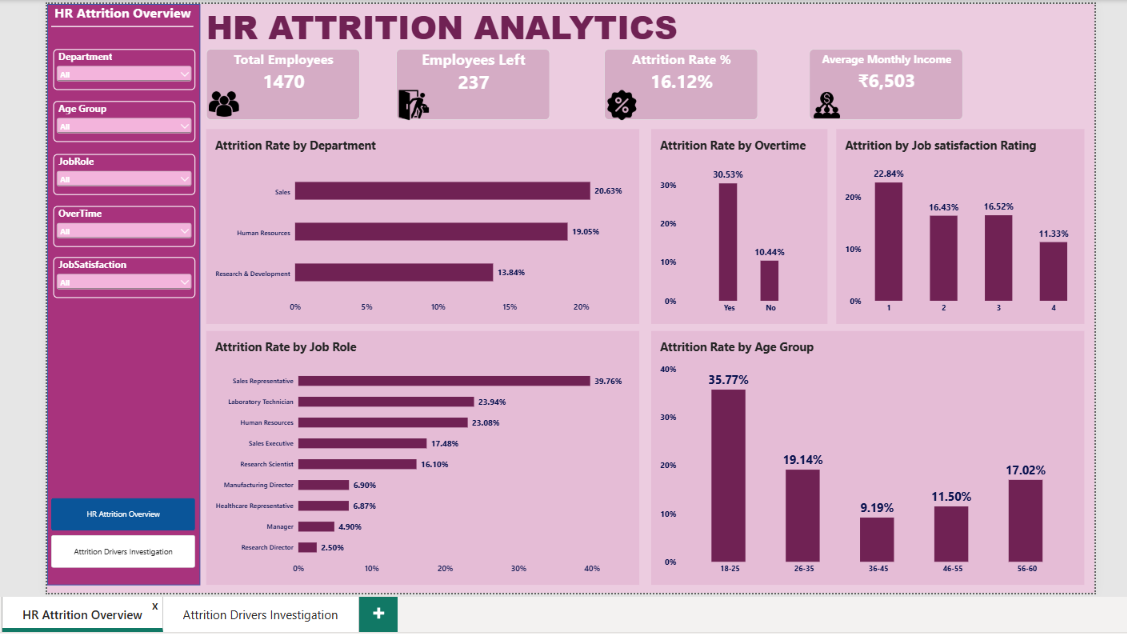

The dashboard page shown, as its layout file describes it:
{"tool":"powerbi","page":{"name":"HR Attrition Overview","canvas":[1920,1080],"ordinal":0},"visuals":[{"type":"shape","box":[0,0,280.6,1066],"z":0},{"type":"textbox","box":[291.6,0,871.3,102.7],"z":1000},{"type":"textbox","box":[0,0,280.6,51.4],"z":2000},{"type":"shape","box":[7.3,14.7,260.5,53.2],"z":3000},{"type":"cardVisual","fields":{"Data":["HR_Attrition_Cleaned.Total Employees"]},"box":[291.6,82.5,282.5,130.2],"z":4000},{"type":"cardVisual","fields":{"Data":["HR_Attrition_Cleaned.Employees Left"]},"box":[640.2,82.5,282.5,130.2],"z":5000},{"type":"cardVisual","fields":{"Data":["HR_Attrition_Cleaned.Attrition Rate %"]},"box":[1021.7,82.5,282.5,130.2],"z":6000},{"type":"cardVisual","fields":{"Data":["HR_Attrition_Cleaned.Average Monthly Income"]},"box":[1397.7,82.5,282.5,130.2],"z":7000},{"type":"image","box":[291.6,155.9,64.2,55],"z":8000},{"type":"image","box":[1397.7,157.7,64.2,55],"z":9000},{"type":"image","box":[640.2,157.7,64.2,55],"z":10000},{"type":"image","box":[1021.7,157.7,64.2,55],"z":11000},{"type":"clusteredBarChart","title":" Attrition Rate by Department ","fields":{"Y":["HR_Attrition_Cleaned.Department Attrition Rate %"],"Category":["HR_Attrition_Cleaned.Department"]},"box":[291.6,229.3,794.2,357.7],"z":12000},{"type":"clusteredColumnChart","title":"Attrition Rate by Overtime","fields":{"Category":["HR_Attrition_Cleaned.OverTime"],"Y":["HR_Attrition_Cleaned.Overtime Attrition Rate %"]},"box":[1107.9,229.3,322.8,357.7],"z":13000},{"type":"clusteredBarChart","title":"Attrition Rate by Job Role","fields":{"Category":["HR_Attrition_Cleaned.JobRole"],"Y":["HR_Attrition_Cleaned.Attrition Rate %"]},"box":[291.6,599.8,794.2,465.9],"z":14000},{"type":"clusteredColumnChart","title":"Attrition Rate by Age Group","fields":{"Category":["HR_Attrition_Cleaned.Age Group"],"Y":["HR_Attrition_Cleaned.Attrition Rate %"]},"box":[1107.9,599.8,794.2,465.9],"z":15000},{"type":"slicer","fields":{"Values":["HR_Attrition_Cleaned.Department"]},"box":[11,82.5,260.5,75.2],"z":16000},{"type":"slicer","fields":{"Values":["HR_Attrition_Cleaned.Age Group"]},"box":[11,178.5,260.5,75.2],"z":17000},{"type":"slicer","fields":{"Values":["HR_Attrition_Cleaned.OverTime"]},"box":[11,370.5,260.5,75.2],"z":18000},{"type":"slicer","fields":{"Values":["HR_Attrition_Cleaned.JobRole"]},"box":[11,274.5,260.5,75.2],"z":19000},{"type":"pageNavigator","box":[7.3,906.1,264.1,128.4],"z":20000},{"type":"clusteredColumnChart","title":"Attrition by Job satisfaction Rating","fields":{"Category":["HR_Attrition_Cleaned.JobSatisfaction"],"Y":["HR_Attrition_Cleaned.Attrition Rate %"]},"box":[1447.2,229.3,454.9,357.7],"z":20001},{"type":"slicer","fields":{"Values":["HR_Attrition_Cleaned.JobSatisfaction"]},"box":[11,464.1,260.5,75.2],"z":20002}]}

Visuals, with their boxes on the page's 1920x1080 design canvas (x1, y1, x2, y2). These are canvas units, not pixel positions in the 1127x634 screenshot, which may show the page scaled, cropped or inside an application window:
shape: [x1=0, y1=0, x2=281, y2=1066]
textbox: [x1=292, y1=0, x2=1163, y2=103]
textbox: [x1=0, y1=0, x2=281, y2=51]
shape: [x1=7, y1=15, x2=268, y2=68]
cardVisual - HR_Attrition_Cleaned.Total Employees: [x1=292, y1=82, x2=574, y2=213]
cardVisual - HR_Attrition_Cleaned.Employees Left: [x1=640, y1=82, x2=923, y2=213]
cardVisual - HR_Attrition_Cleaned.Attrition Rate %: [x1=1022, y1=82, x2=1304, y2=213]
cardVisual - HR_Attrition_Cleaned.Average Monthly Income: [x1=1398, y1=82, x2=1680, y2=213]
image: [x1=292, y1=156, x2=356, y2=211]
image: [x1=1398, y1=158, x2=1462, y2=213]
image: [x1=640, y1=158, x2=704, y2=213]
image: [x1=1022, y1=158, x2=1086, y2=213]
" Attrition Rate by Department " clusteredBarChart: [x1=292, y1=229, x2=1086, y2=587]
"Attrition Rate by Overtime" clusteredColumnChart: [x1=1108, y1=229, x2=1431, y2=587]
"Attrition Rate by Job Role" clusteredBarChart: [x1=292, y1=600, x2=1086, y2=1066]
"Attrition Rate by Age Group" clusteredColumnChart: [x1=1108, y1=600, x2=1902, y2=1066]
slicer - HR_Attrition_Cleaned.Department: [x1=11, y1=82, x2=272, y2=158]
slicer - HR_Attrition_Cleaned.Age Group: [x1=11, y1=178, x2=272, y2=254]
slicer - HR_Attrition_Cleaned.OverTime: [x1=11, y1=370, x2=272, y2=446]
slicer - HR_Attrition_Cleaned.JobRole: [x1=11, y1=274, x2=272, y2=350]
pageNavigator: [x1=7, y1=906, x2=271, y2=1034]
"Attrition by Job satisfaction Rating" clusteredColumnChart: [x1=1447, y1=229, x2=1902, y2=587]
slicer - HR_Attrition_Cleaned.JobSatisfaction: [x1=11, y1=464, x2=272, y2=539]
